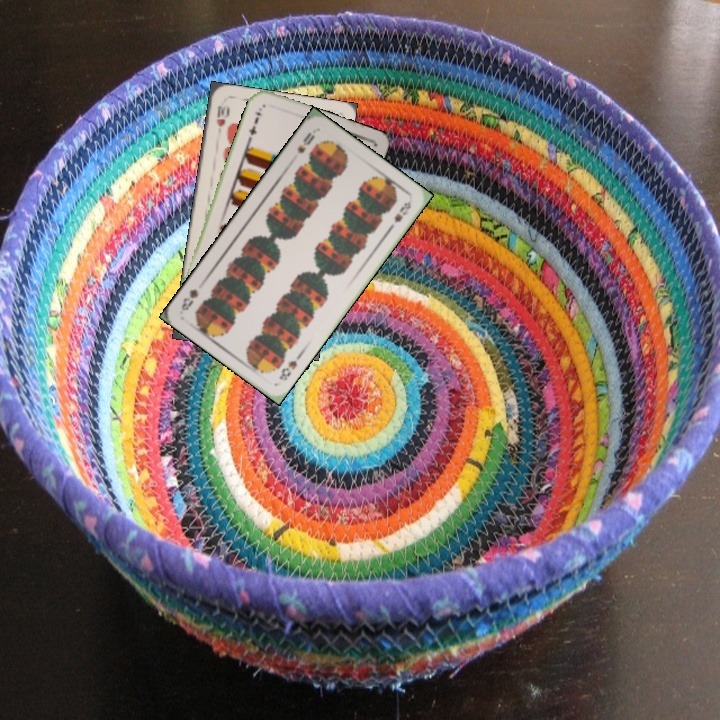E7: (244, 104, 265, 142)
H10: (213, 102, 230, 129)
S8: (275, 350, 304, 383), (293, 128, 318, 156)
